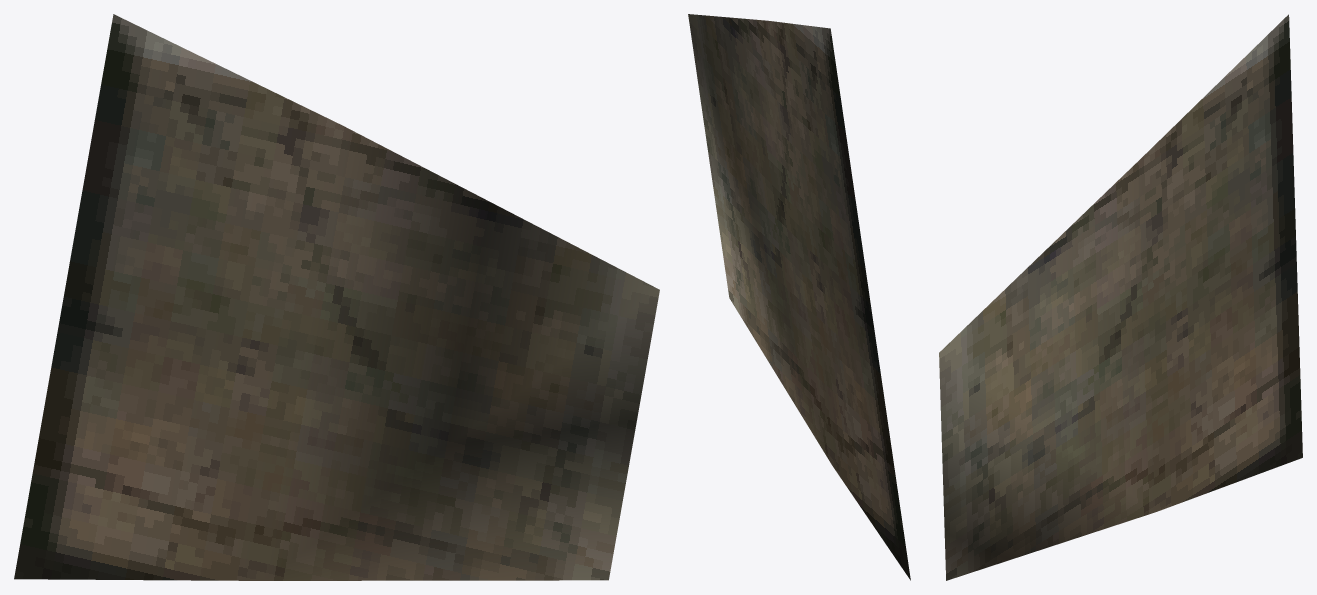
The model's file is CH09_SMAUG_PLAYSURFACE_LAIR45.fbx.
The picture shows the model from 3 angles, left to right: view 1: azimuth 30°, elevation 25°; view 2: azimuth 150°, elevation 25°; view 3: azimuth 270°, elevation 25°; orthographic projection. The views are drawn at different scales.
Parts seen in each view (by area): view 1: CH09_SMAUG_PLAYSURFACE_LAIR45; view 2: CH09_SMAUG_PLAYSURFACE_LAIR45; view 3: CH09_SMAUG_PLAYSURFACE_LAIR45.
Part boxes in pixels (x1,y1,x2,y2): CH09_SMAUG_PLAYSURFACE_LAIR45: [14, 14, 659, 580]; CH09_SMAUG_PLAYSURFACE_LAIR45: [688, 14, 910, 580]; CH09_SMAUG_PLAYSURFACE_LAIR45: [939, 14, 1302, 580].
Size of the model in its own units: 5038 by 6013 by 4105.
Materials: 1 (1 with a texture image).
